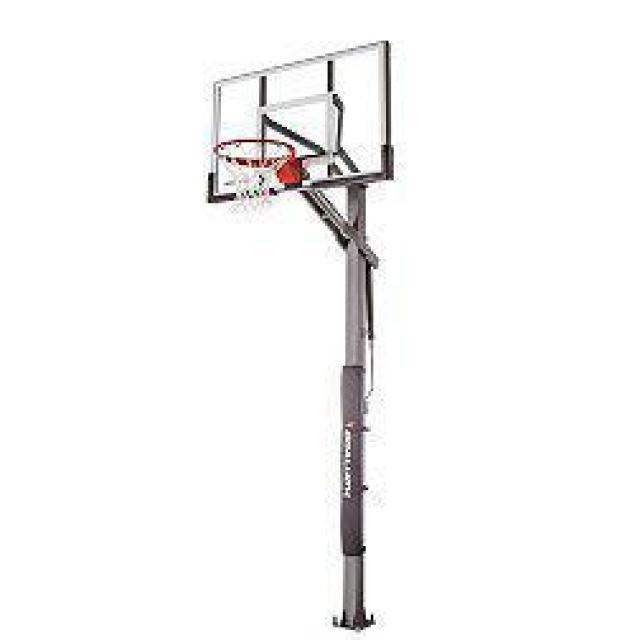hoop: (214, 137, 296, 212)
